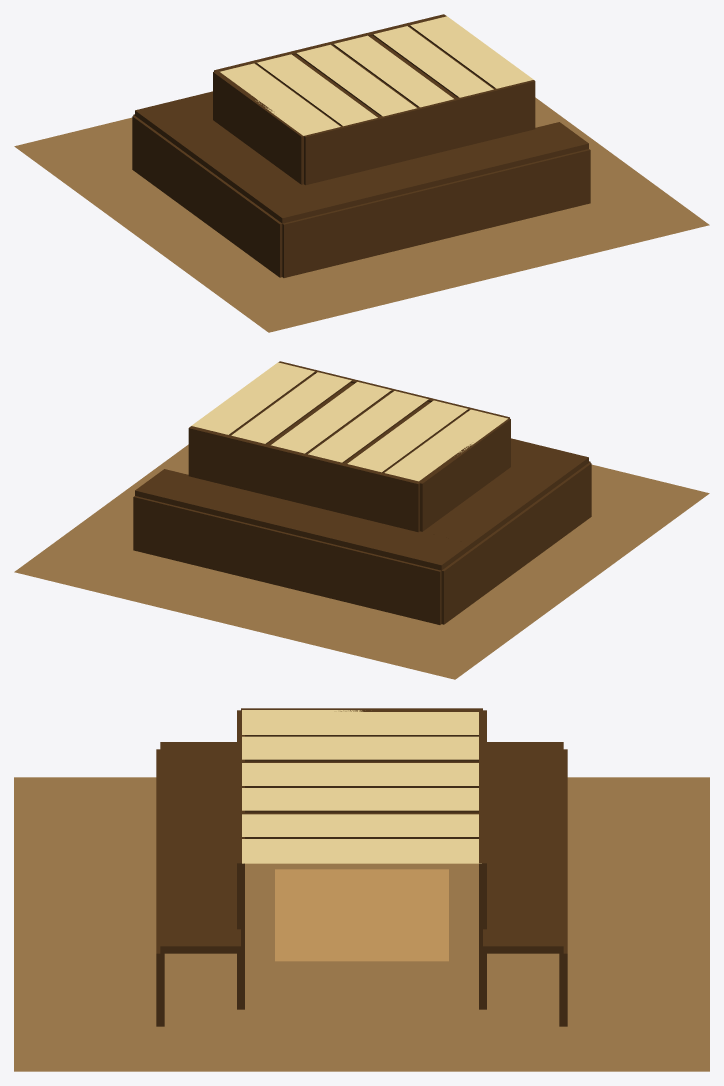
File: TutorialLevel.fbx
The picture shows the model from 3 angles, top to bottom: view 1: azimuth 30°, elevation 25°; view 2: azimuth 150°, elevation 25°; view 3: azimuth 270°, elevation 25°; orthographic projection. The views are drawn at different scales.
Visible parts, largest first — view 1: Plane, Plane.001, Cube.021, Cube.020, Cube.013, Cube.012, Cube.011, Cube.009, Cube.010, Cube.008, Cube.007, Cube.030 (+14 smaller); view 2: Plane, Plane.001, Cube.019, Cube.001, Cube.003, Cube.002, Cube.004, Cube.006, Cube.005, Cube.007, Cube.008, Cube.026 (+14 smaller); view 3: Plane, Plane.001, Cube, Cube.035, Cube.022, Cube.034, Cube.023, Cube.024, Cube.025, Cube.026, Cube.030, Cube.031 (+6 smaller).
Part boxes in pixels (x1,y1,x2,y2): Plane: (14, 97, 709, 332); Plane.001: (220, 15, 533, 135); Cube.021: (282, 205, 360, 277); Cube.020: (359, 186, 437, 259); Cube.013: (436, 167, 513, 240); Cube.012: (512, 149, 590, 221); Cube.011: (304, 116, 382, 185); Cube.009: (456, 80, 535, 147); Cube.010: (379, 97, 458, 166); Cube.008: (257, 103, 306, 184); Cube.007: (213, 71, 261, 151); Cube.030: (253, 184, 333, 223); Plane: (14, 444, 709, 679); Plane.001: (190, 362, 507, 481); Cube.019: (363, 552, 441, 624); Cube.001: (286, 533, 364, 606); Cube.003: (133, 496, 211, 568); Cube.002: (210, 514, 287, 587); Cube.004: (341, 463, 420, 532); Cube.006: (188, 426, 267, 494); Cube.005: (265, 444, 344, 513); Cube.007: (419, 450, 466, 531); Cube.008: (462, 418, 510, 498); Cube.026: (390, 531, 470, 570); Plane: (14, 777, 709, 1071); Plane.001: (242, 710, 481, 863); Cube: (483, 912, 563, 953); Cube.035: (160, 912, 240, 953); Cube.022: (487, 878, 563, 912); Cube.034: (160, 878, 236, 912); Cube.023: (487, 844, 563, 877); Cube.024: (487, 810, 563, 843); Cube.025: (487, 776, 563, 809); Cube.026: (487, 742, 563, 775); Cube.030: (160, 742, 236, 775); Cube.031: (160, 776, 236, 809).
Bounding box in the file's own units: 1727 × 400 × 1727.
